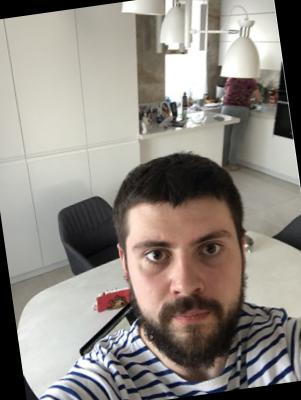without_mask: (126, 214, 257, 376)
